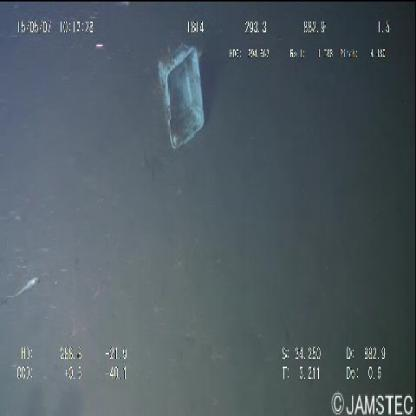Rác: (160, 45, 207, 150)
